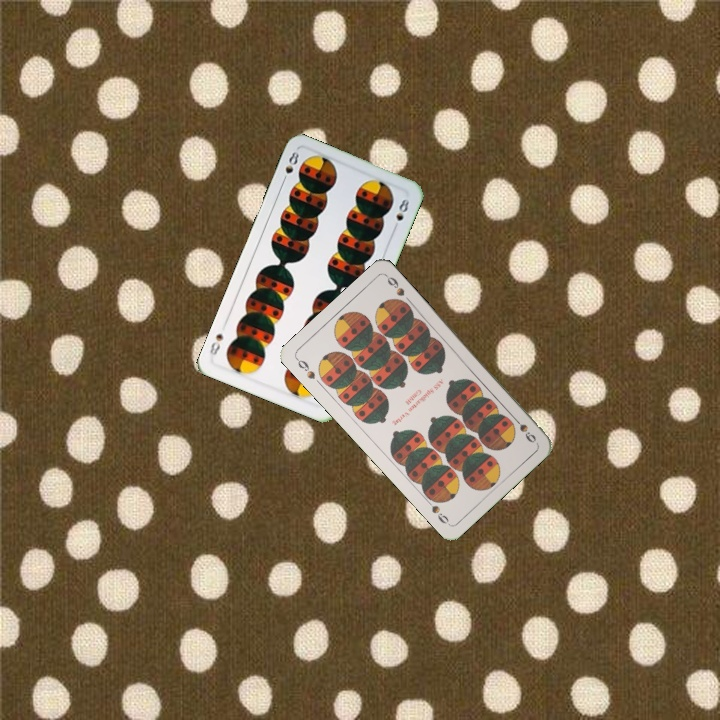S8: (278, 146, 302, 186)
S9: (508, 412, 539, 446), (292, 354, 318, 382)
